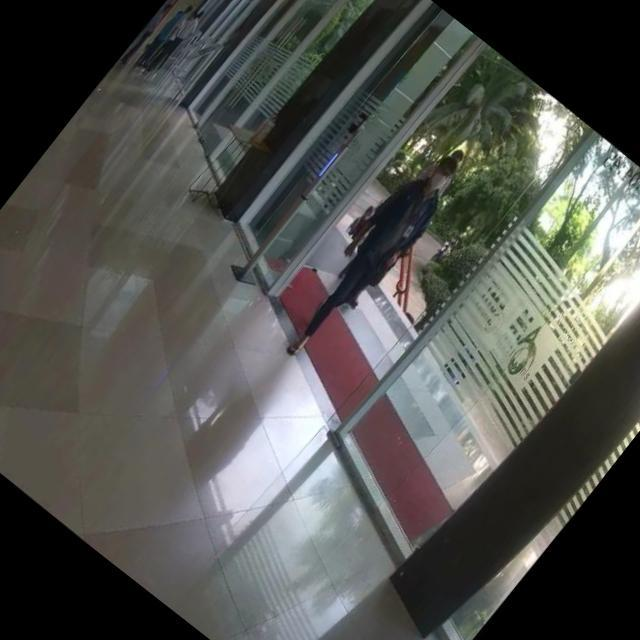person: (272, 142, 470, 374)
